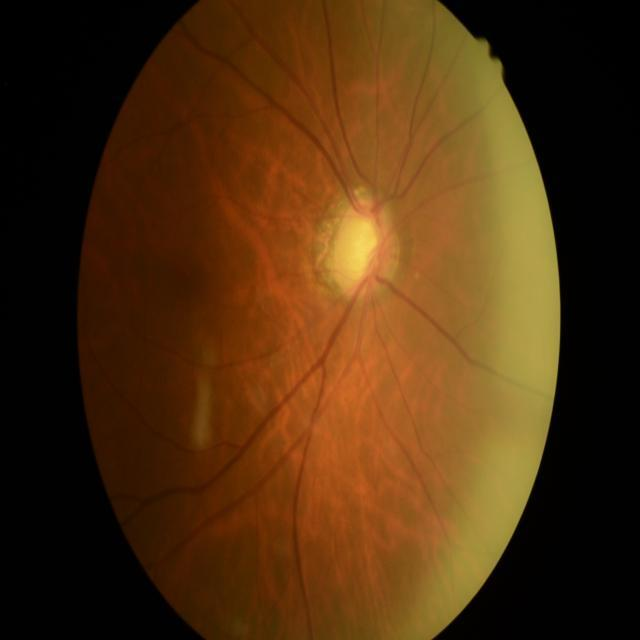cup: (340, 213, 386, 286)
disk: (330, 194, 400, 300)
